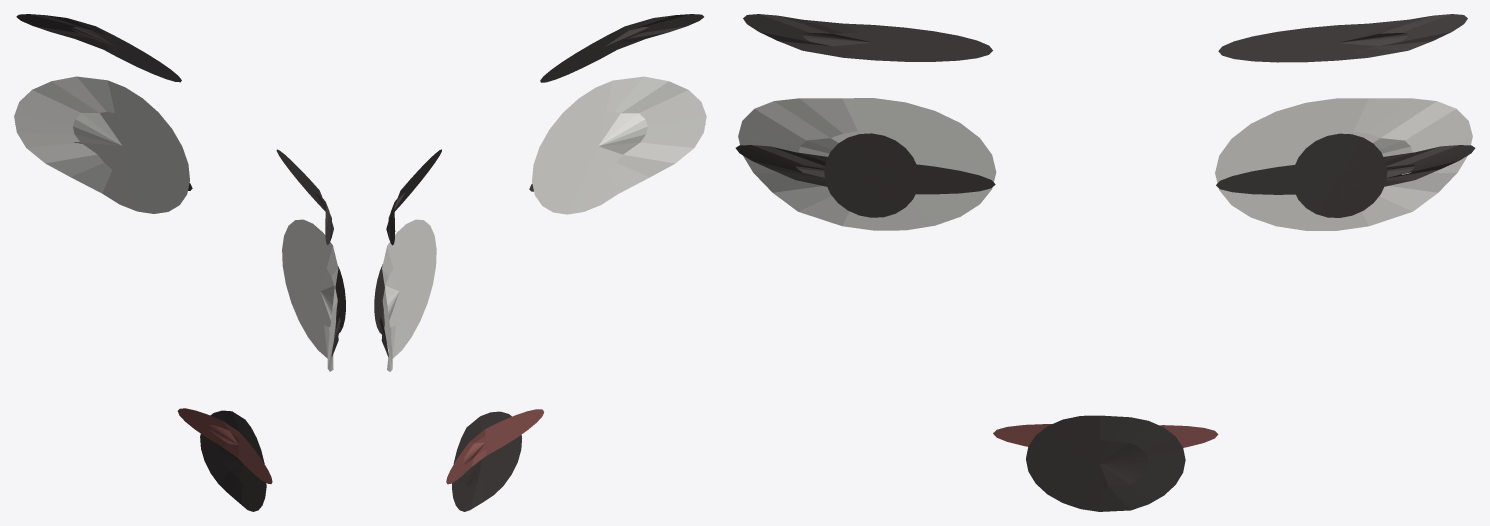
Rendered from char_qin_face.glb.
3 renders of one model, left to right at view 1: azimuth 30°, elevation 25°; view 2: azimuth 150°, elevation 25°; view 3: azimuth 270°, elevation 25°, orthographic. The views are drawn at different scales.
Visible parts, largest first — view 1: eye_white_L, eye_white_R, mouth_open, brow_L, mouth_line, brow_R, pupil_R; view 2: eye_white_R, eye_white_L, mouth_open, brow_R, mouth_line, brow_L, pupil_L; view 3: eye_white_R, eye_white_L, mouth_open, brow_R, brow_L, pupil_R, pupil_L, eye_closed_R, eye_closed_L, mouth_line.
Boxes of the visible parts, x1,y1,x2,y2 form: eye_white_L: [14, 76, 189, 213]; eye_white_R: [282, 219, 338, 371]; mouth_open: [200, 410, 266, 511]; brow_L: [16, 14, 181, 82]; mouth_line: [177, 408, 272, 484]; brow_R: [276, 149, 333, 244]; pupil_R: [335, 266, 345, 332]; eye_white_R: [532, 76, 706, 214]; eye_white_L: [382, 219, 436, 371]; mouth_open: [452, 411, 521, 511]; brow_R: [540, 14, 703, 82]; mouth_line: [446, 409, 543, 484]; brow_L: [386, 149, 441, 245]; pupil_L: [374, 264, 384, 333]; eye_white_R: [738, 98, 996, 230]; eye_white_L: [1215, 98, 1472, 230]; mouth_open: [1026, 415, 1185, 511]; brow_R: [743, 14, 992, 61]; brow_L: [1218, 14, 1467, 62]; pupil_R: [824, 133, 919, 217]; pupil_L: [1292, 133, 1387, 217]; eye_closed_R: [735, 145, 995, 194]; eye_closed_L: [1216, 145, 1475, 194]; mouth_line: [993, 424, 1218, 447].
Bounding box in the file's own units: 0.00855 × 0.0458 × 0.0653.
